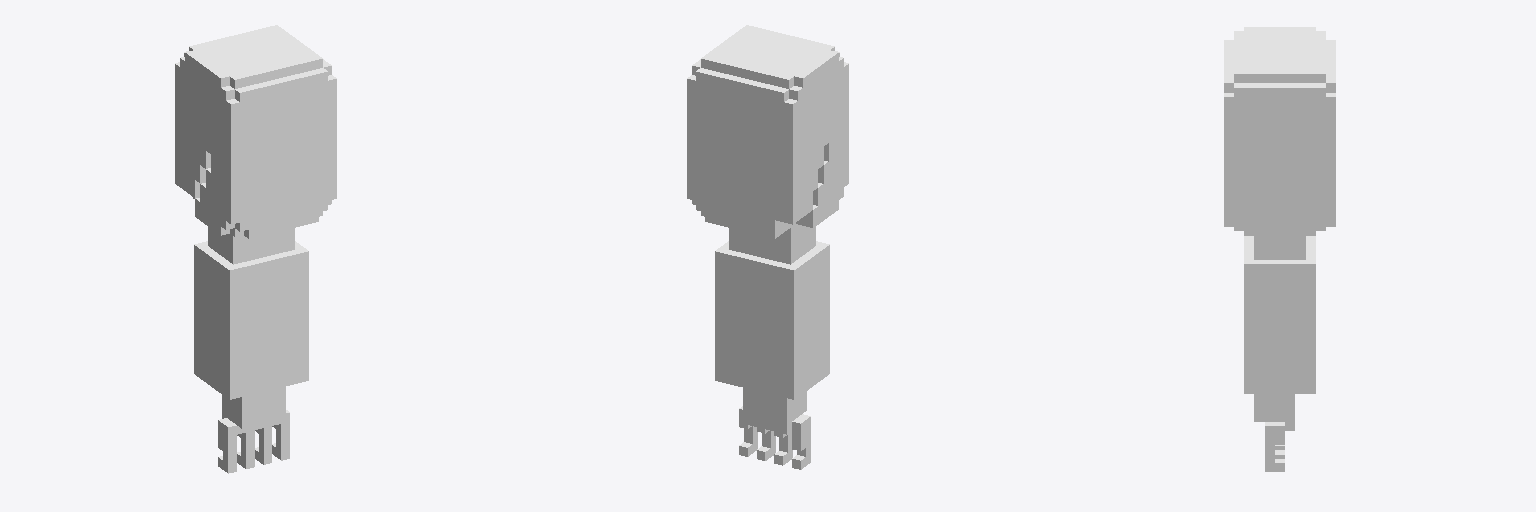
Rendered from Zeds-0-Zed_1-3.obj.
The picture shows the model from 3 angles: view 1: azimuth 30°, elevation 25°; view 2: azimuth 150°, elevation 25°; view 3: azimuth 270°, elevation 25°; orthographic projection.
Visible parts, largest first — view 1: object 1; view 2: object 1; view 3: object 1.
Part boxes in pixels (x1,y1,x2,y2): object 1: (175, 25, 336, 473); object 1: (687, 25, 848, 469); object 1: (1224, 27, 1335, 471).
Size of the model in its own units: 1.2 by 4.4 by 1.1.